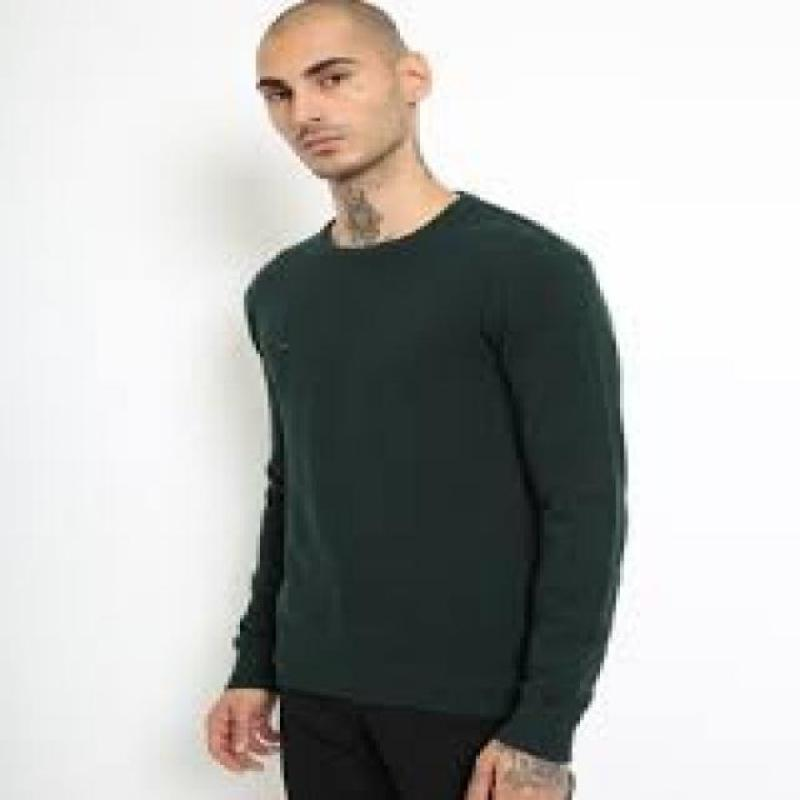sweater: (220, 190, 626, 761)
trousers: (278, 691, 517, 800)
